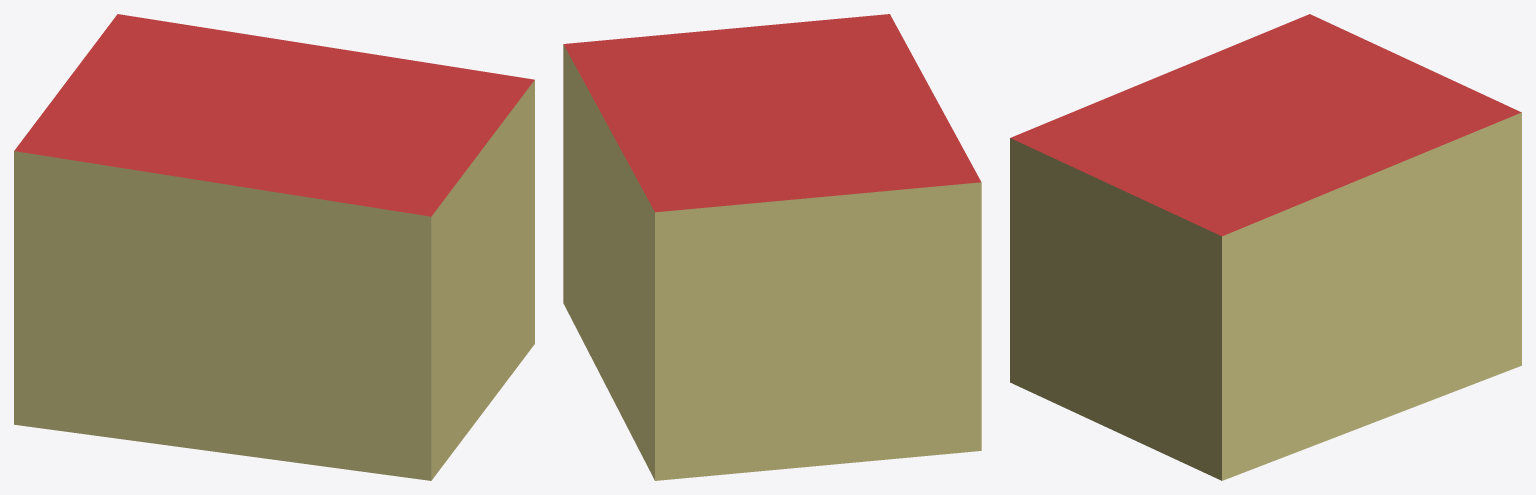
3 views of the same model, side by side, from view 1: azimuth 30°, elevation 25°; view 2: azimuth 150°, elevation 25°; view 3: azimuth 270°, elevation 25° (orthographic). The views are drawn at different scales.
Bounding box in the file's own units: 10.12 × 10.24 × 5.59.
